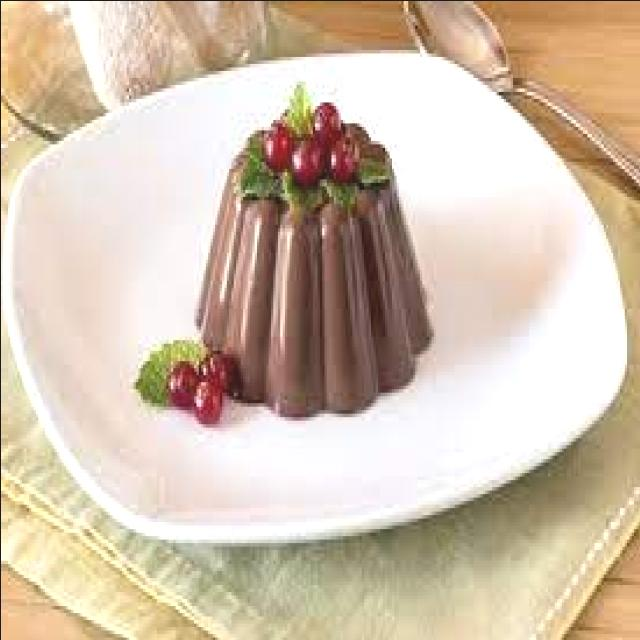puding: (188, 101, 418, 432)
